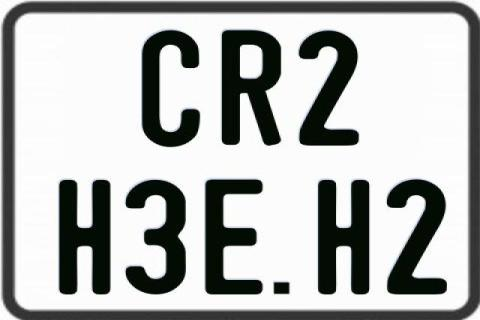0: (386, 177, 450, 295), (299, 30, 361, 150), (125, 178, 188, 294)
C: (141, 29, 199, 148)
E: (204, 177, 266, 293)
H: (58, 178, 114, 294), (315, 180, 366, 295)
R: (219, 29, 283, 150)
